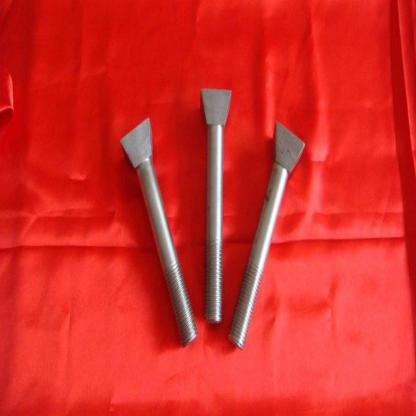FOD: (120, 114, 199, 349), (227, 119, 306, 353), (198, 85, 234, 325)
